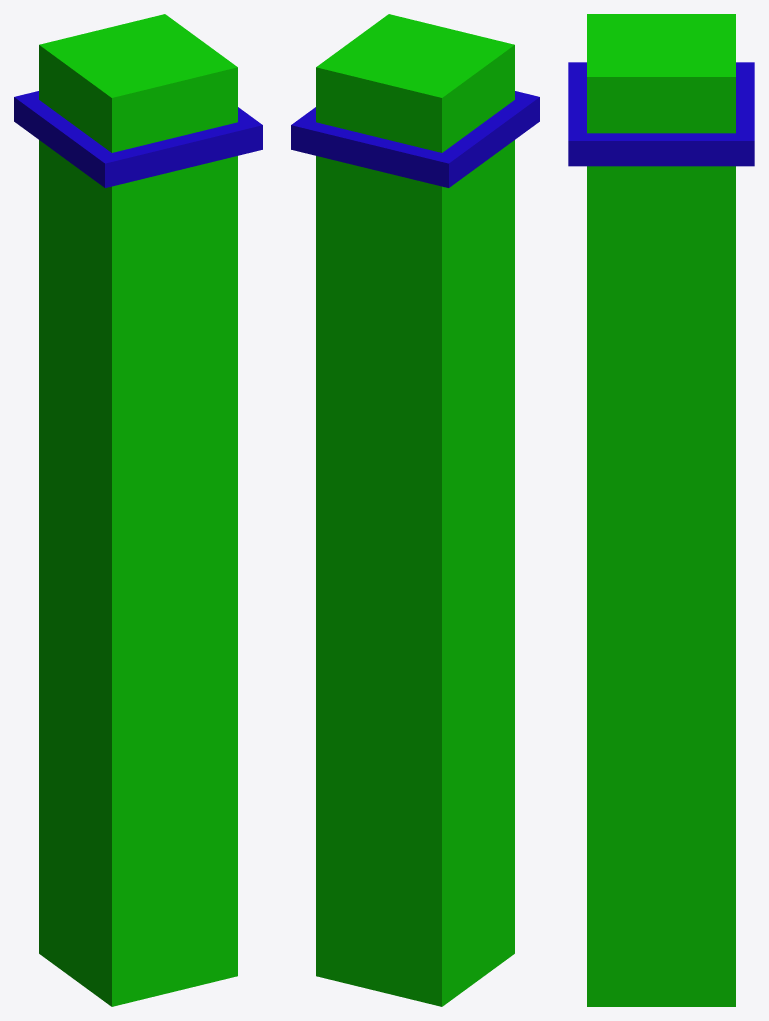
File: neighbor_fence_post.FBX
3 renders of one model, left to right at view 1: azimuth 30°, elevation 25°; view 2: azimuth 150°, elevation 25°; view 3: azimuth 270°, elevation 25°, orthographic. The views are drawn at different scales.
Visible parts, largest first — view 1: neighbor_fence_post; view 2: neighbor_fence_post; view 3: neighbor_fence_post.
Boxes of the visible parts, x1,y1,x2,y2 form: neighbor_fence_post: [14, 14, 262, 1006]; neighbor_fence_post: [291, 14, 539, 1006]; neighbor_fence_post: [568, 14, 754, 1006].
Bounding box in the file's own units: 0.5631 × 0.5631 × 3.1.
